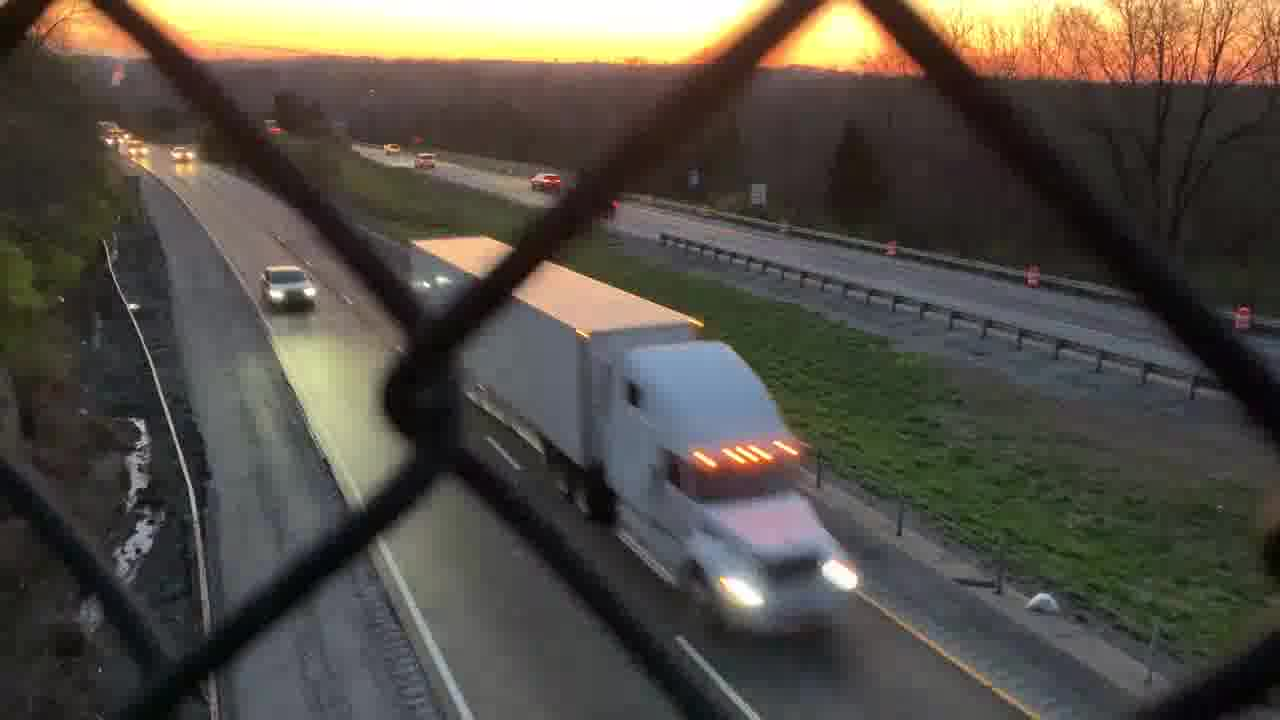heavyTruck: (409, 235, 866, 632)
smallCar: (259, 265, 322, 313)
